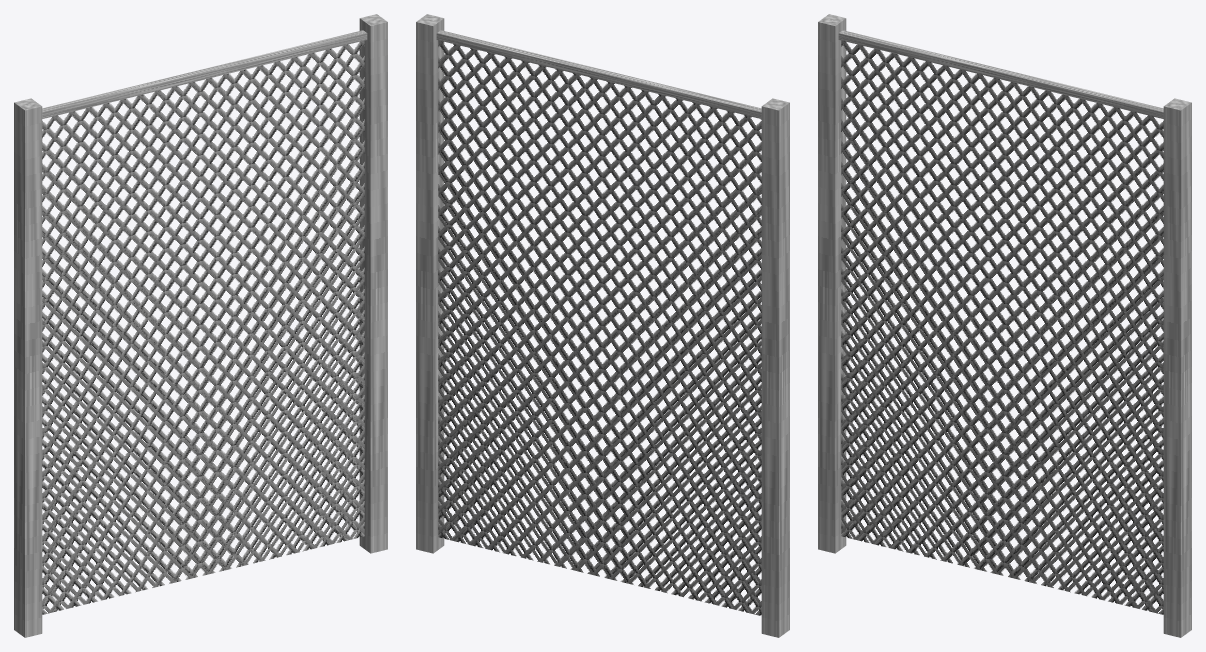
File: fence04.obj
The picture shows the model from 3 angles, left to right: view 1: azimuth 30°, elevation 25°; view 2: azimuth 150°, elevation 25°; view 3: azimuth 330°, elevation 25°; orthographic projection.
Visible parts, largest first — view 1: Plane02, Duplicate03, Box01, Duplicate02, Duplicate04; view 2: Plane02, Duplicate03, Box01, Duplicate02, Duplicate04; view 3: Plane02, Duplicate03, Duplicate02, Box01, Duplicate04.
Boxes of the visible parts, <box> form: Plane02: <box>42,40,364,612</box>; Duplicate03: <box>42,41,364,614</box>; Box01: <box>14,98,42,637</box>; Duplicate02: <box>359,14,387,553</box>; Duplicate04: <box>42,30,367,118</box>; Plane02: <box>438,40,761,614</box>; Duplicate03: <box>438,41,761,615</box>; Box01: <box>761,98,789,637</box>; Duplicate02: <box>416,14,444,553</box>; Duplicate04: <box>436,30,761,118</box>; Plane02: <box>841,41,1163,614</box>; Duplicate03: <box>841,41,1163,613</box>; Duplicate02: <box>1163,98,1191,637</box>; Box01: <box>818,14,846,553</box>; Duplicate04: <box>838,30,1163,118</box>.
Size of the model in its own units: 41.99 by 58.33 by 2.19.
